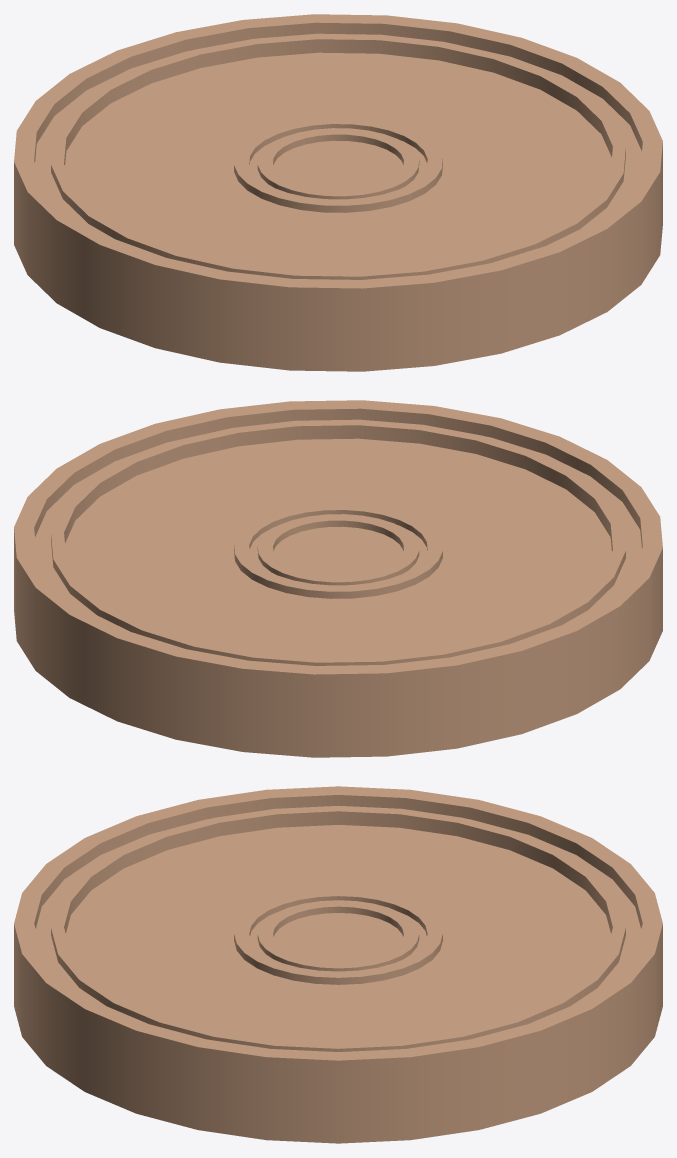
The model's file is Coin Single 4 .fbx.
The picture shows the model from 3 angles, top to bottom: view 1: azimuth 30°, elevation 25°; view 2: azimuth 150°, elevation 25°; view 3: azimuth 270°, elevation 25°; orthographic projection.
Visible parts, largest first — view 1: Coin 4 .001; view 2: Coin 4 .001; view 3: Coin 4 .001.
Boxes of the visible parts, <box> form: Coin 4 .001: <box>14,14,662,371</box>; Coin 4 .001: <box>14,400,662,757</box>; Coin 4 .001: <box>14,786,662,1143</box>.
Bounding box in the file's own units: 14.42 × 2.03 × 14.42.
